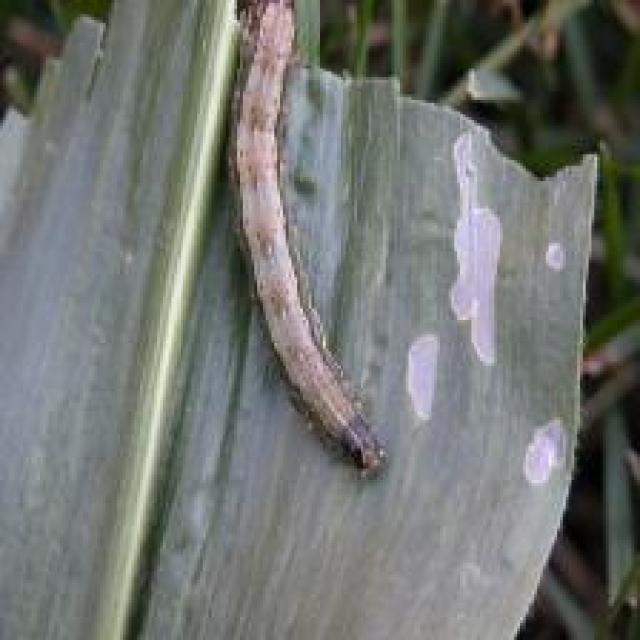Plaga: (219, 1, 394, 487)
